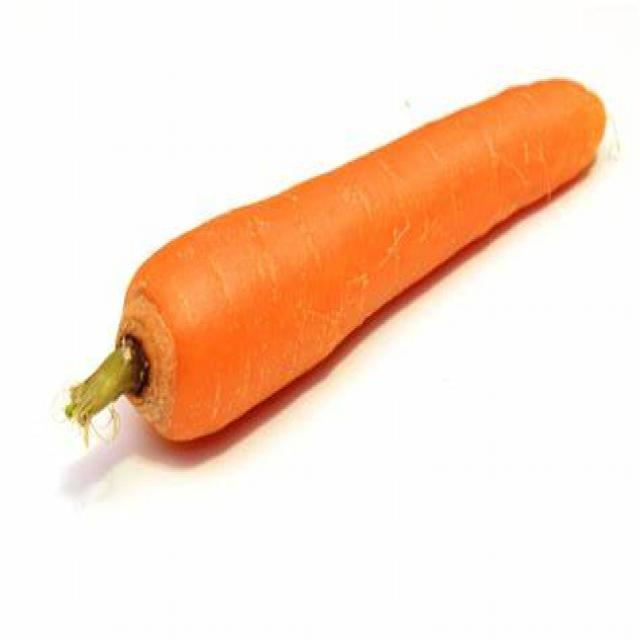Carrot: (71, 77, 612, 449)
